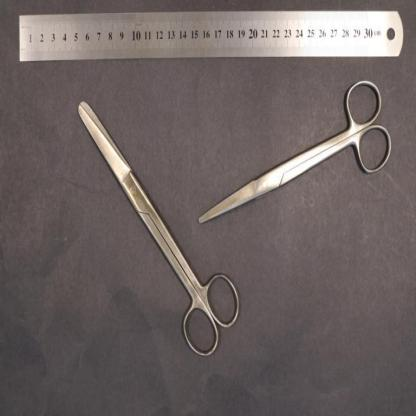Curved Mayo Scissors: (198, 78, 392, 224)
Dressing Scissors: (78, 100, 242, 360)
